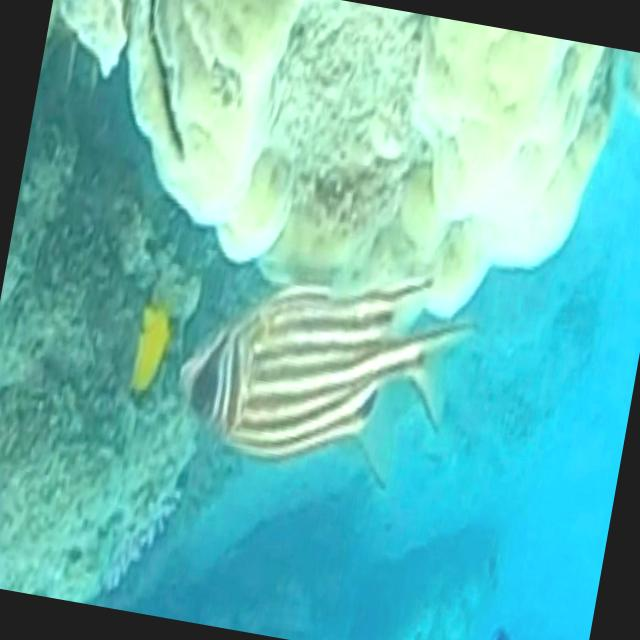Asker Baligi: (155, 233, 492, 516)
